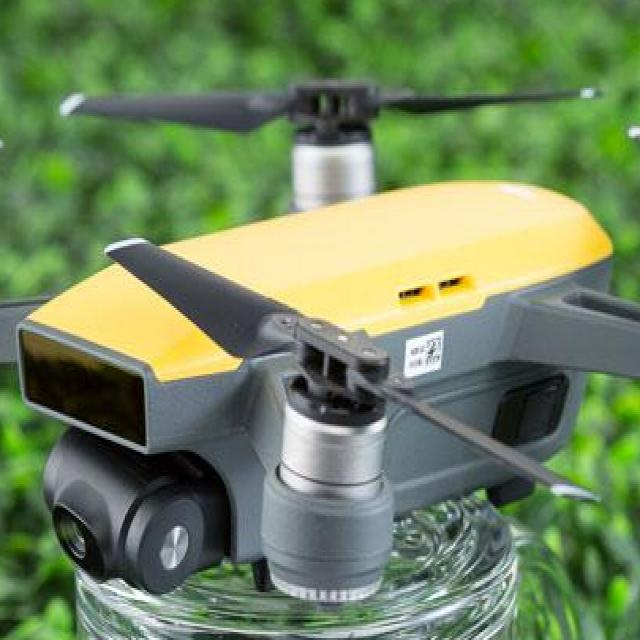drone: (0, 44, 640, 624)
